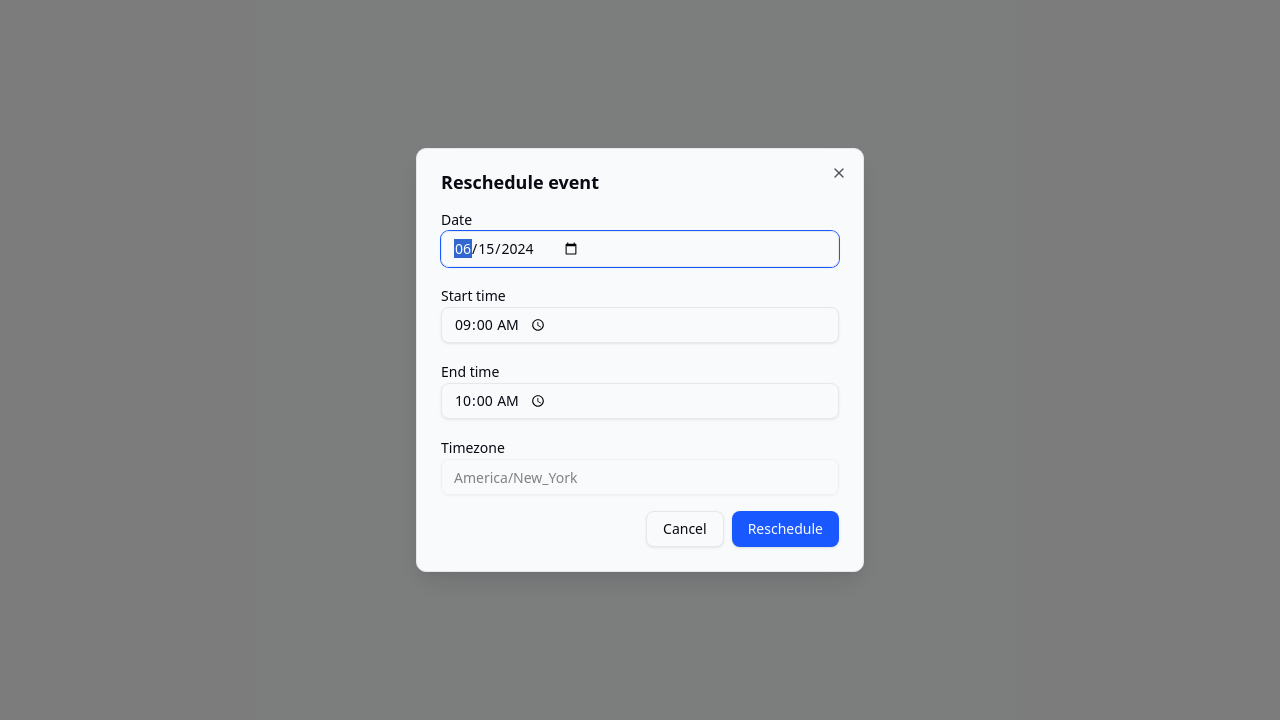
RescheduleDialog › end-after-start validation › shows error when end time is before start time
Replace the text in the time field with test id "reschedule-start-time" with "14:00". click: (640, 325)
box: top-left (441, 307), bottom-right (839, 343)
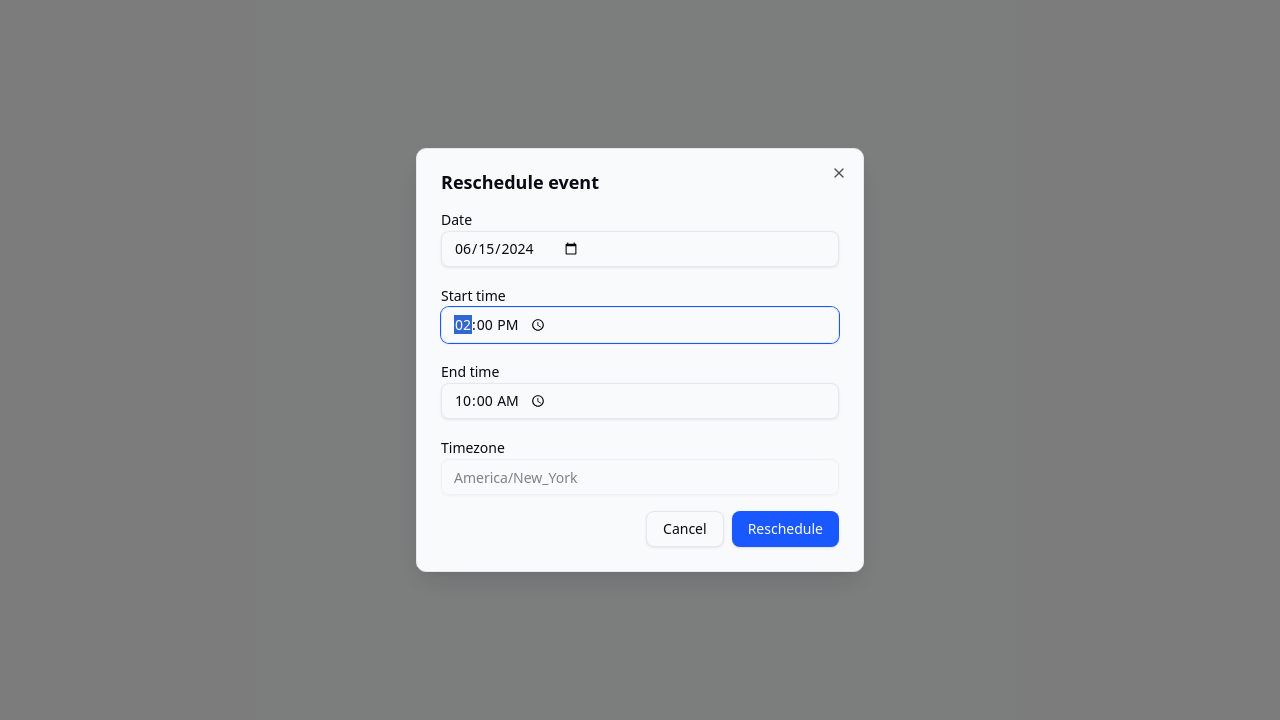
Replace the text in the time field with test id "reschedule-end-time" with "09:00". click: (640, 401)
box: top-left (441, 383), bottom-right (839, 419)
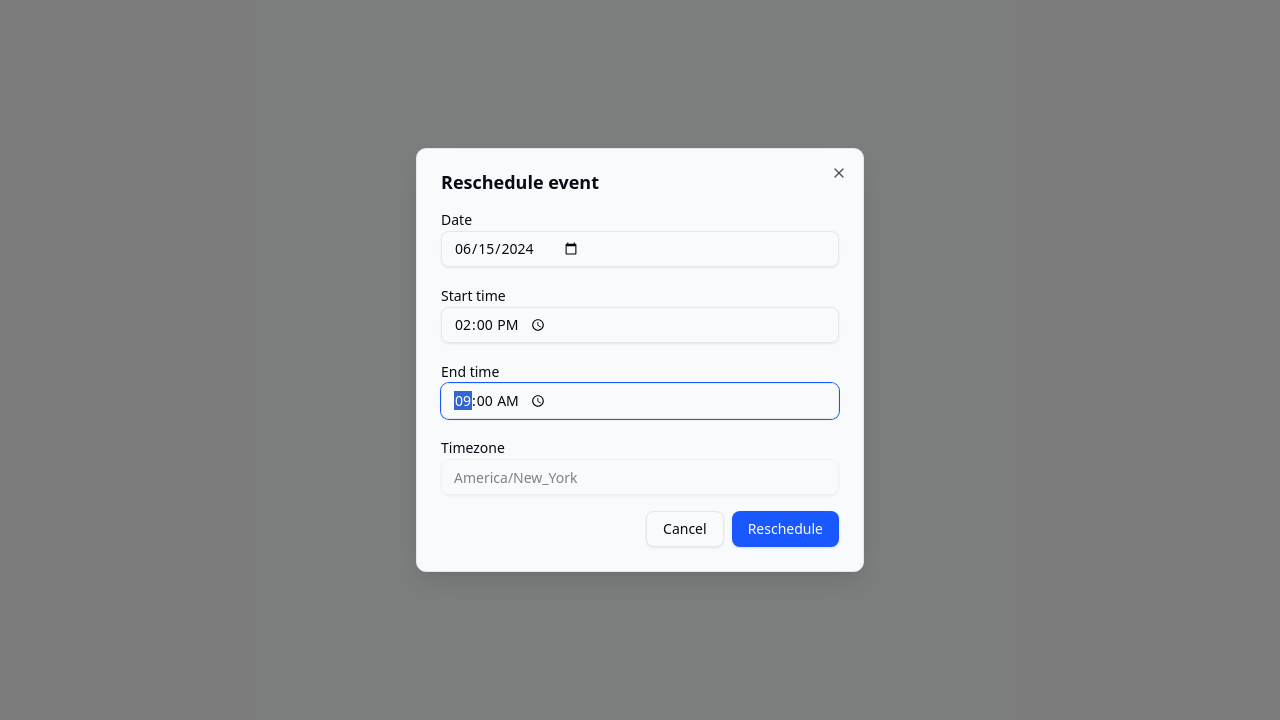
Click the button with test id "reschedule-submit". click: (785, 529)
box: top-left (732, 511), bottom-right (839, 547)
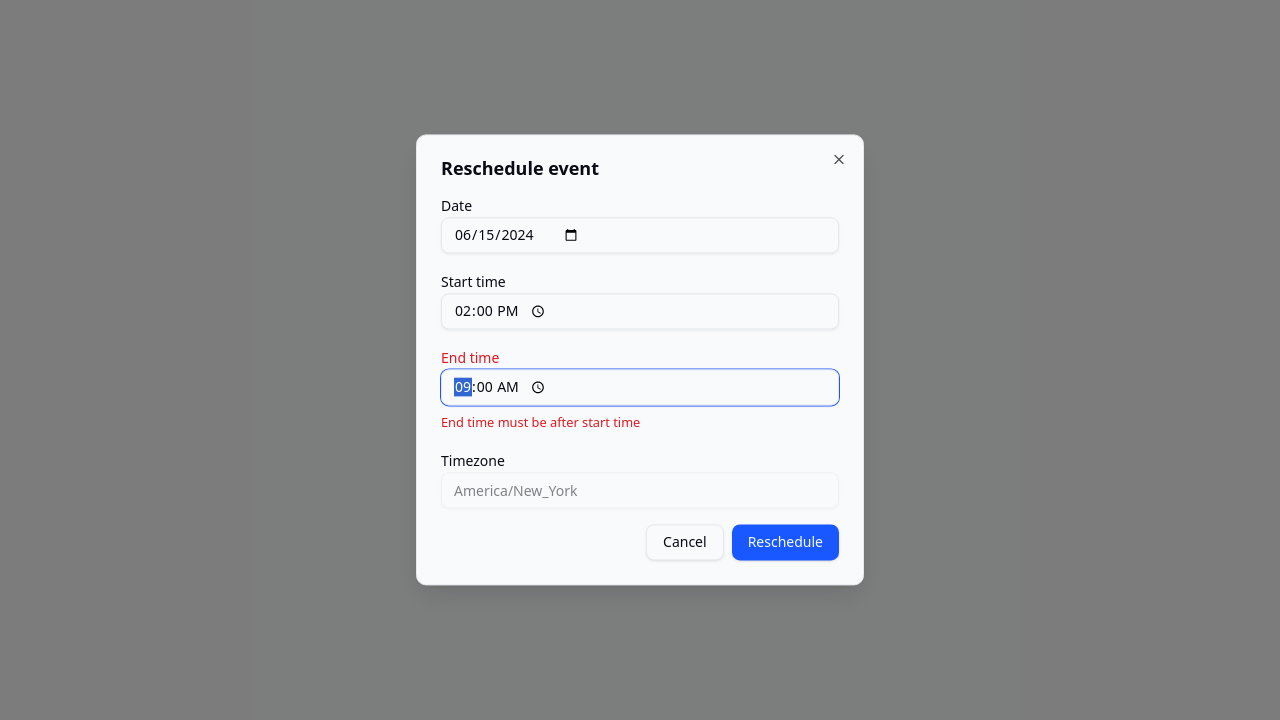
Now the text "End time must be after start time" is shown, box top-left (441, 413), bottom-right (640, 431)
